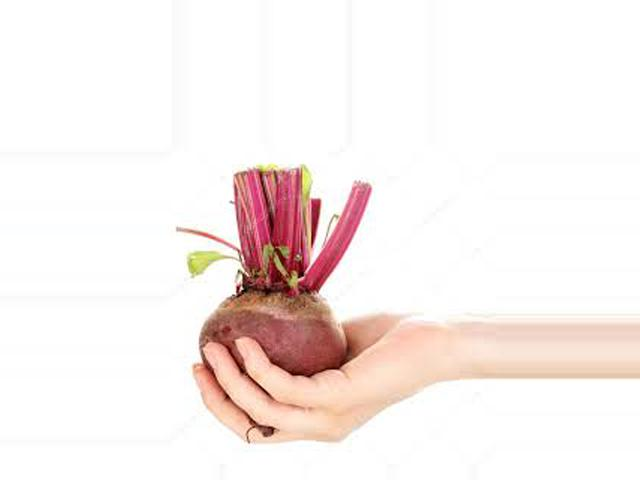beet: (176, 166, 371, 438)
